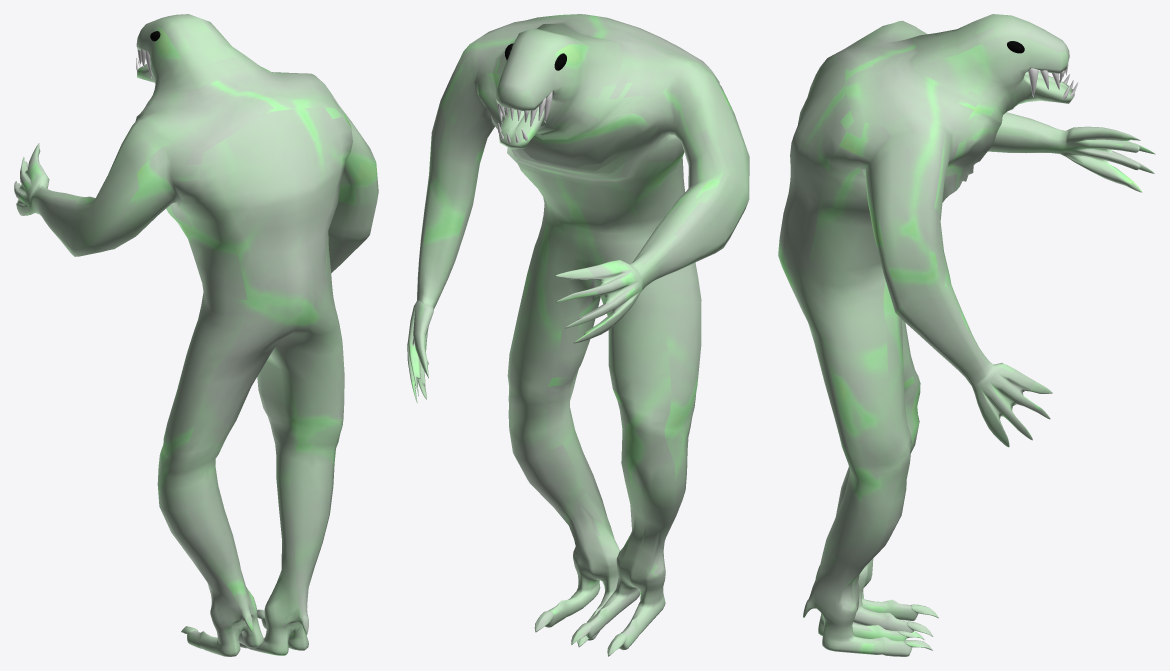
Rendered from Berserkercorrer.0022.obj.
The picture shows the model from 3 angles, left to right: view 1: azimuth 30°, elevation 25°; view 2: azimuth 150°, elevation 25°; view 3: azimuth 270°, elevation 25°; orthographic projection. The views are drawn at different scales.
Visible parts, largest first — view 1: polySurface27; view 2: polySurface27; view 3: polySurface27.
Part boxes in pixels (<box>): polySurface27: <box>14,14,378,656</box>; polySurface27: <box>407,14,749,656</box>; polySurface27: <box>778,14,1155,656</box>.
Bounding box in the file's own units: 11.6 × 23.26 × 12.78.
1 material, 1 textured.
